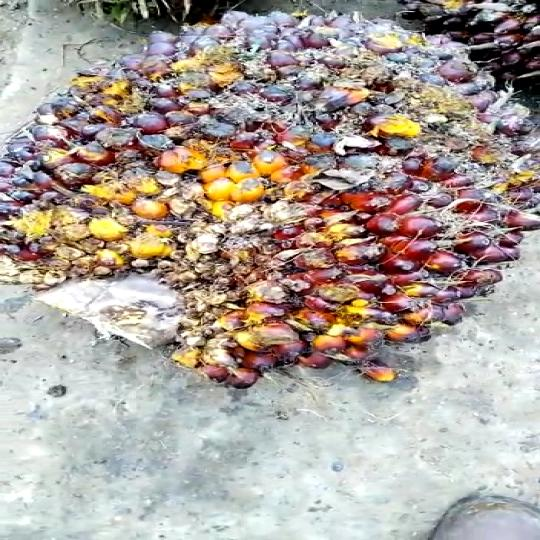kurang masak: (0, 0, 518, 343)
